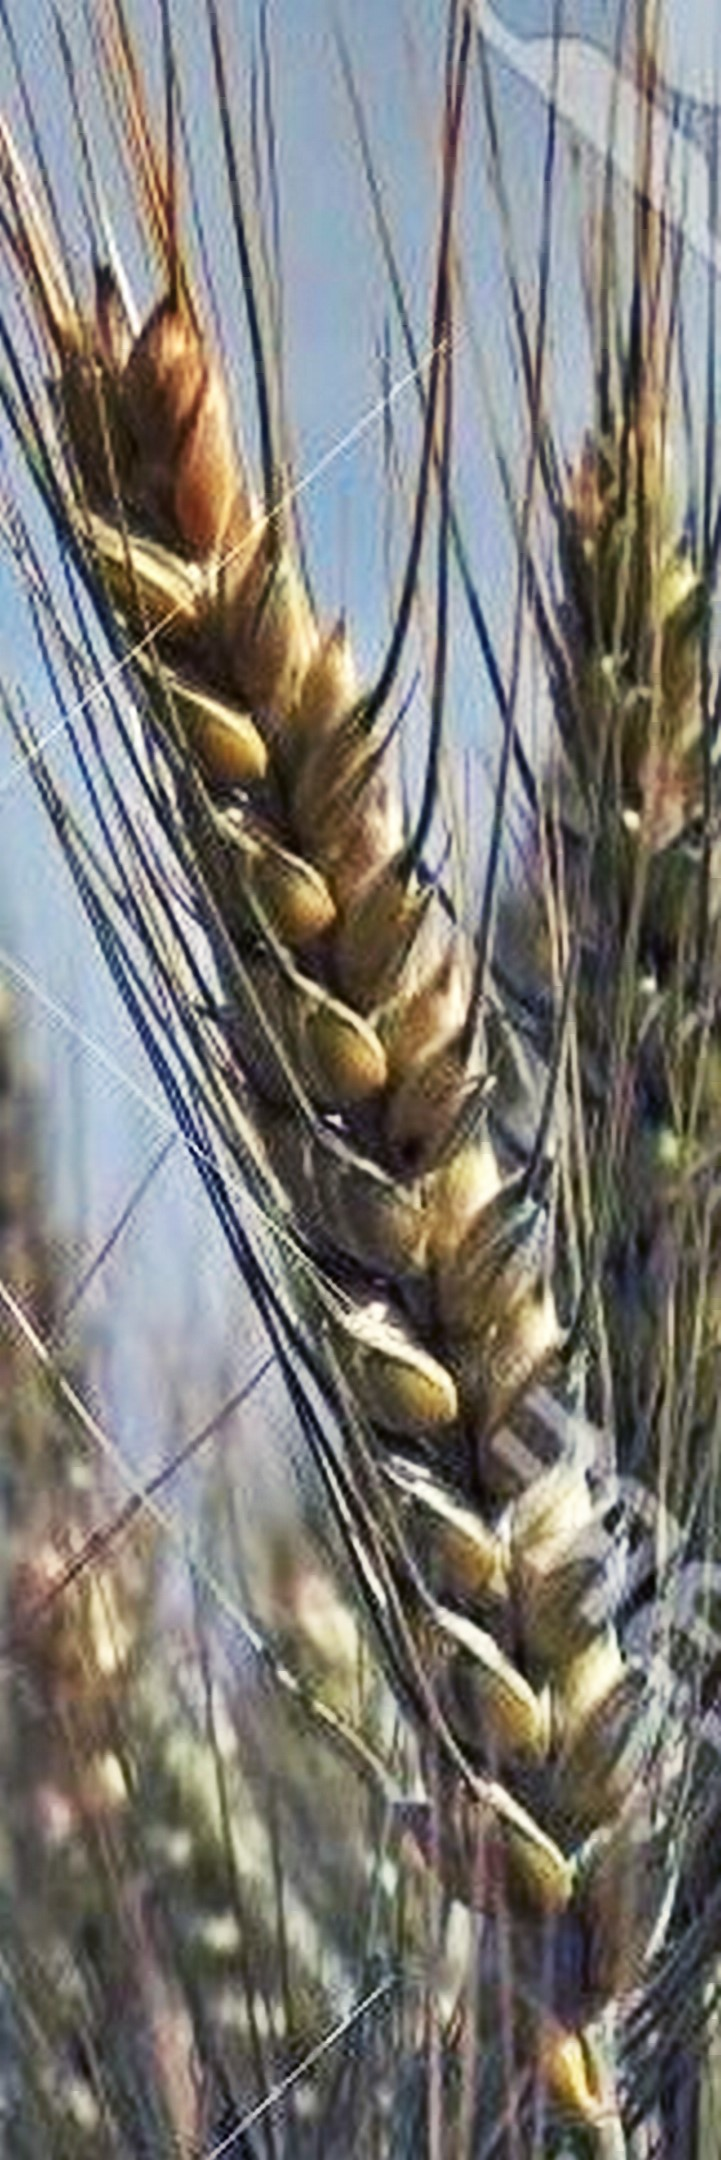Healthy Wheat: (59, 302, 659, 1945)
